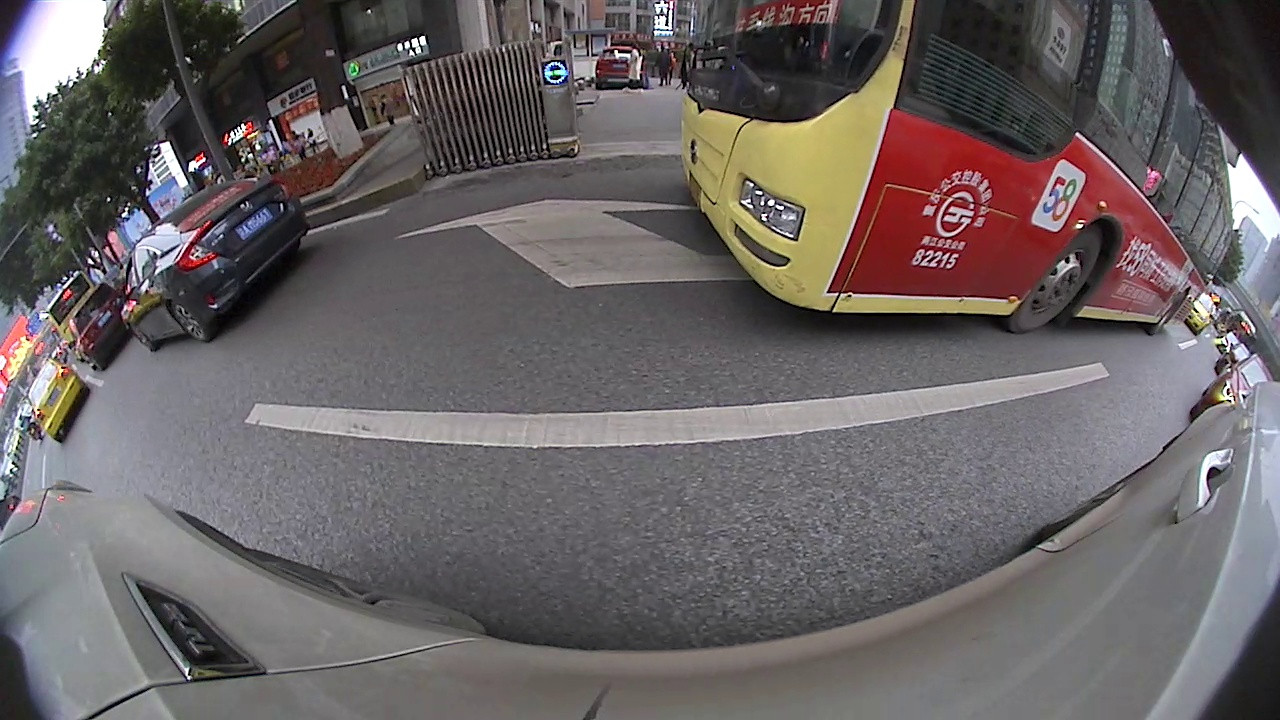car: (143, 40, 686, 340), (741, 92, 950, 194), (1055, 222, 1188, 372), (1192, 401, 1270, 504), (494, 52, 619, 111), (42, 252, 119, 324)
front: (422, 222, 562, 341), (794, 128, 830, 163)
rear: (182, 260, 241, 328), (906, 163, 932, 193)
